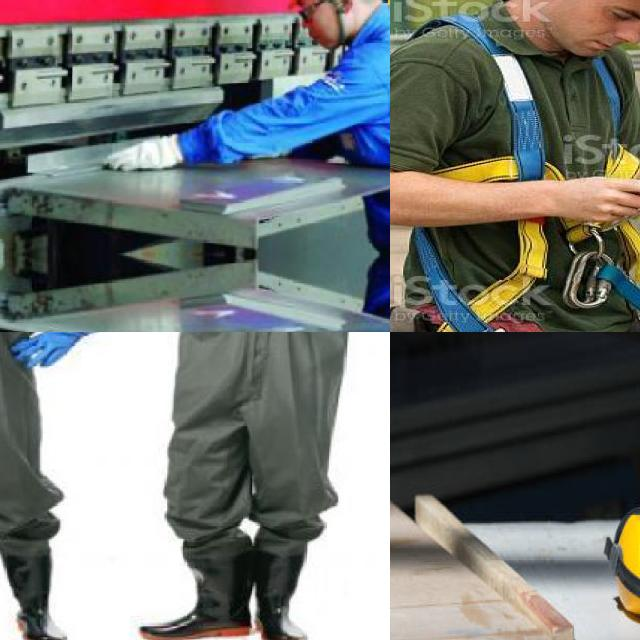Ear-protection: (600, 493, 640, 640)
Harness: (429, 10, 640, 332)
No_Ear-Protection: (338, 0, 354, 17)
No_Glasses: (598, 5, 640, 36)
face_nomask: (302, 7, 340, 49)
hand_glove: (102, 136, 182, 170), (10, 332, 75, 369)
person: (116, 332, 390, 640), (0, 332, 129, 640)
shoes: (135, 562, 259, 640), (0, 559, 79, 640), (247, 551, 315, 640)
